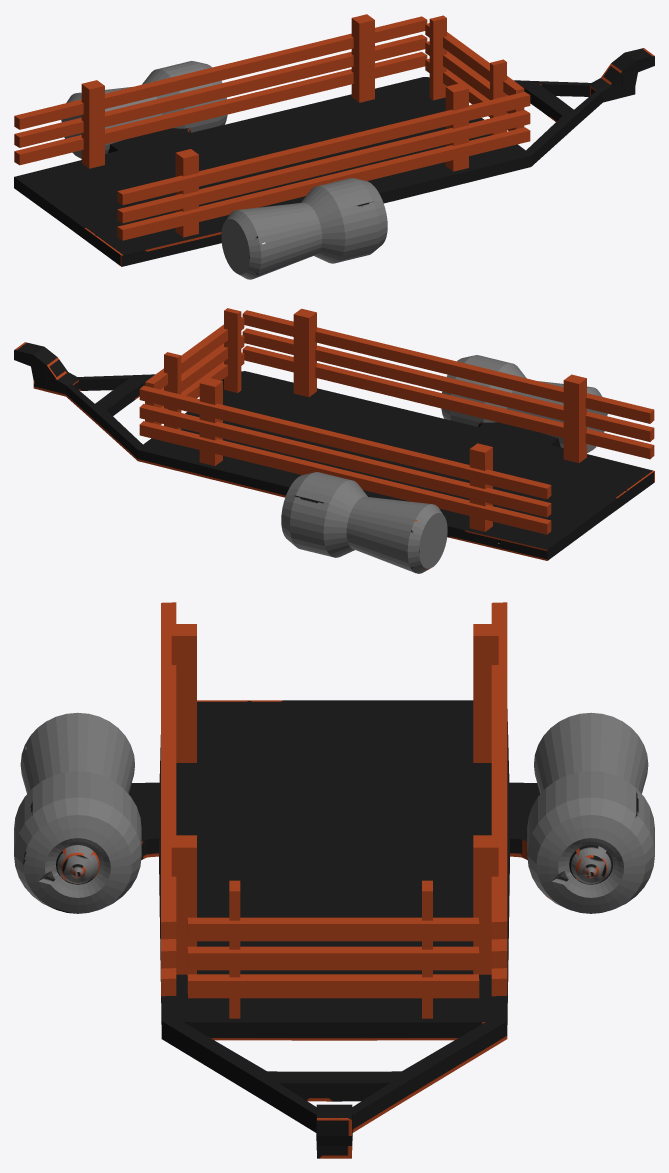
File: trailerHitchOrigin.fbx
3 renders of one model, top to bottom at view 1: azimuth 30°, elevation 25°; view 2: azimuth 150°, elevation 25°; view 3: azimuth 270°, elevation 25°, orthographic. The views are drawn at different scales.
Parts seen in each view (by area): view 1: TrailerModel; view 2: TrailerModel; view 3: TrailerModel.
Part boxes in pixels (x1,y1,x2,y2): TrailerModel: (14,14,654,279); TrailerModel: (14,308,654,573); TrailerModel: (14,602,654,1158).
Bounding box in the file's own units: 422 × 75.37 × 251.
